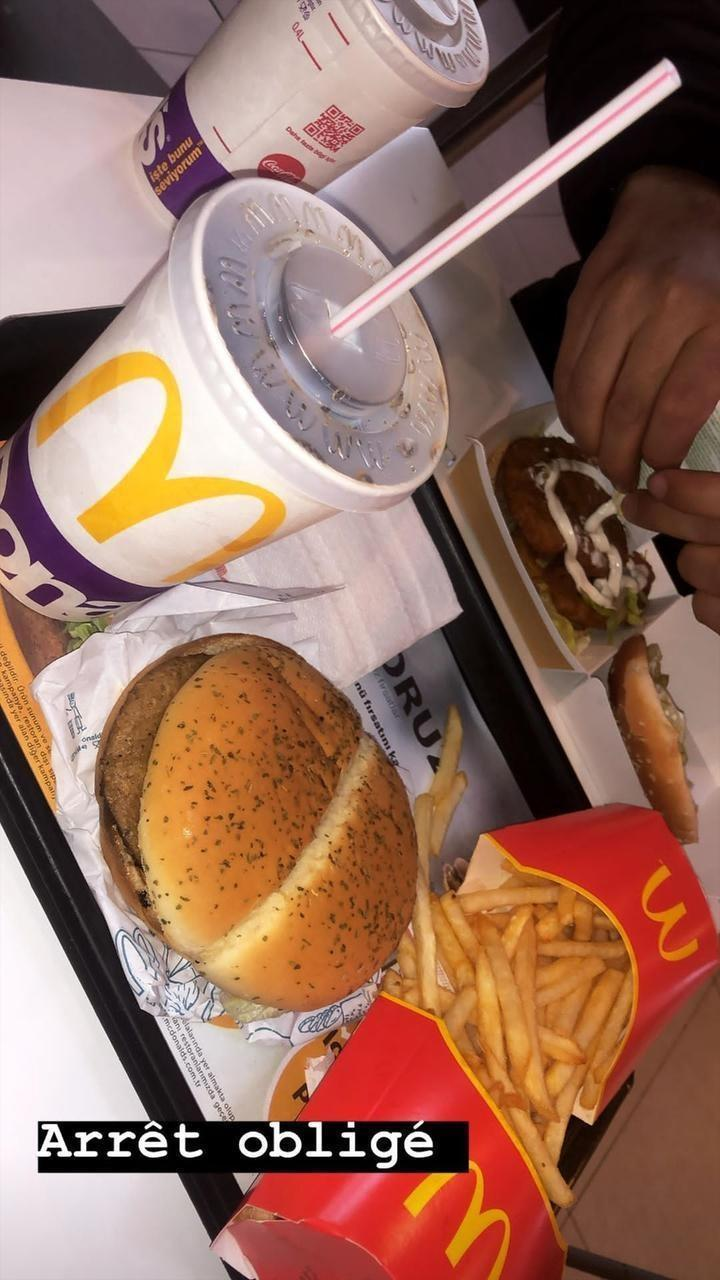cup-disposable: (9, 161, 452, 603), (132, 1, 515, 201)
